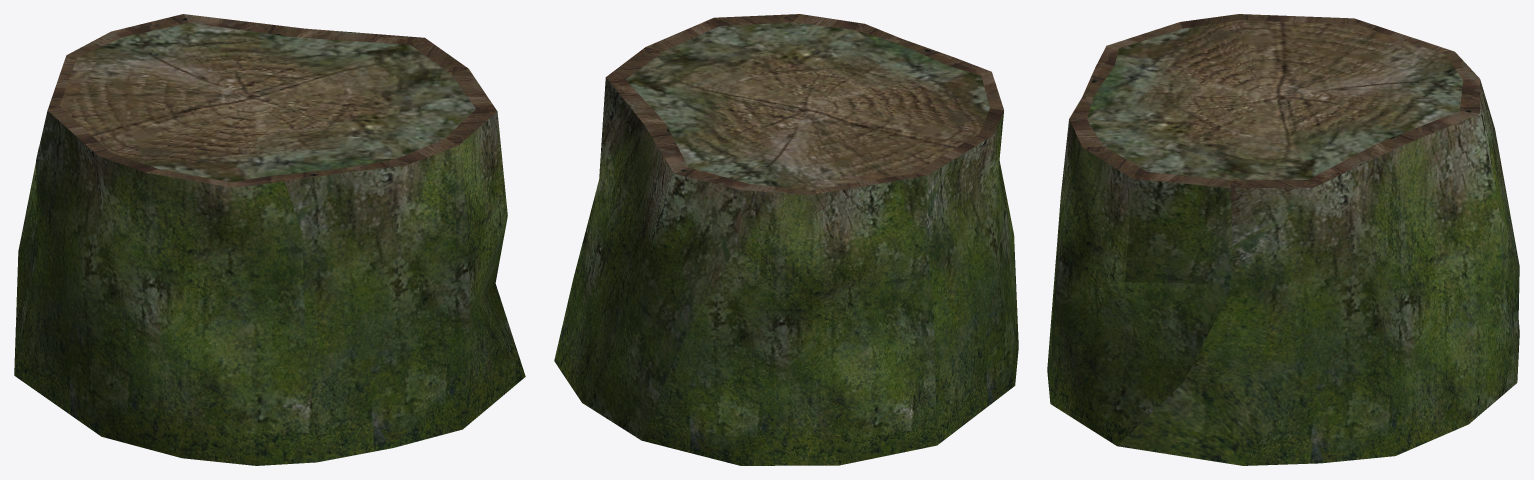
The model's file is Vegetation_Shugen0103.glb.
3 views of the same model, side by side, from view 1: azimuth 30°, elevation 25°; view 2: azimuth 150°, elevation 25°; view 3: azimuth 270°, elevation 25° (orthographic). The views are drawn at different scales.
Visible parts, largest first — view 1: common_shugen01_03; view 2: common_shugen01_03; view 3: common_shugen01_03.
Part boxes in pixels (x1,y1,x2,y2): common_shugen01_03: (14,14,525,465); common_shugen01_03: (554,14,1018,465); common_shugen01_03: (1047,14,1519,465).
Bounding box in the file's own units: 4.22 × 2.64 × 4.3.
Materials: 1 (1 with a texture image).
